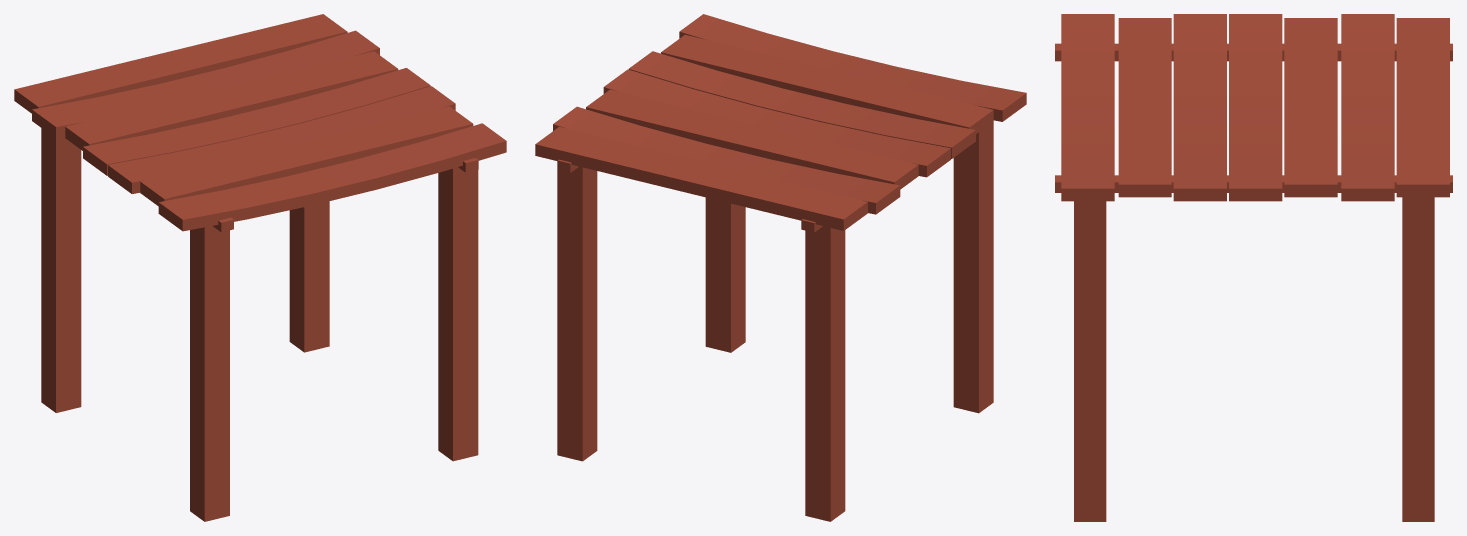
Rendered from SM_platform_wooden.fbx.
3 renders of one model, left to right at view 1: azimuth 30°, elevation 25°; view 2: azimuth 150°, elevation 25°; view 3: azimuth 270°, elevation 25°, orthographic. The views are drawn at different scales.
Parts seen in each view (by area): view 1: Box460; view 2: Box460; view 3: Box460.
Boxes of the visible parts, bbox=[...] form: Box460: bbox=[14, 14, 506, 521]; Box460: bbox=[535, 14, 1026, 521]; Box460: bbox=[1055, 14, 1452, 521].
Bounding box in the file's own units: 101 × 93.31 × 97.32.
